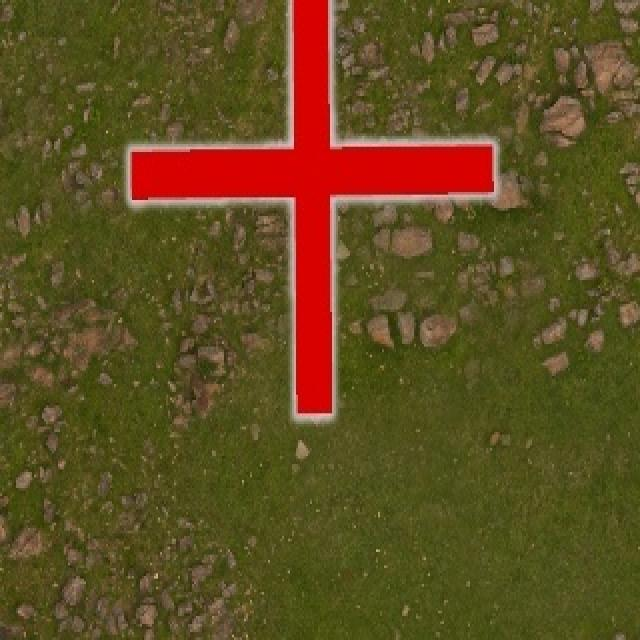x_marker: (129, 0, 493, 416)
